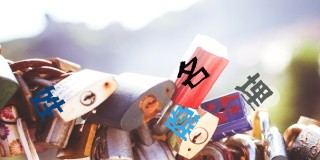名: (176, 57, 209, 89)
埋: (233, 71, 273, 110)
姓: (28, 85, 65, 124)
隐: (163, 105, 199, 141)
